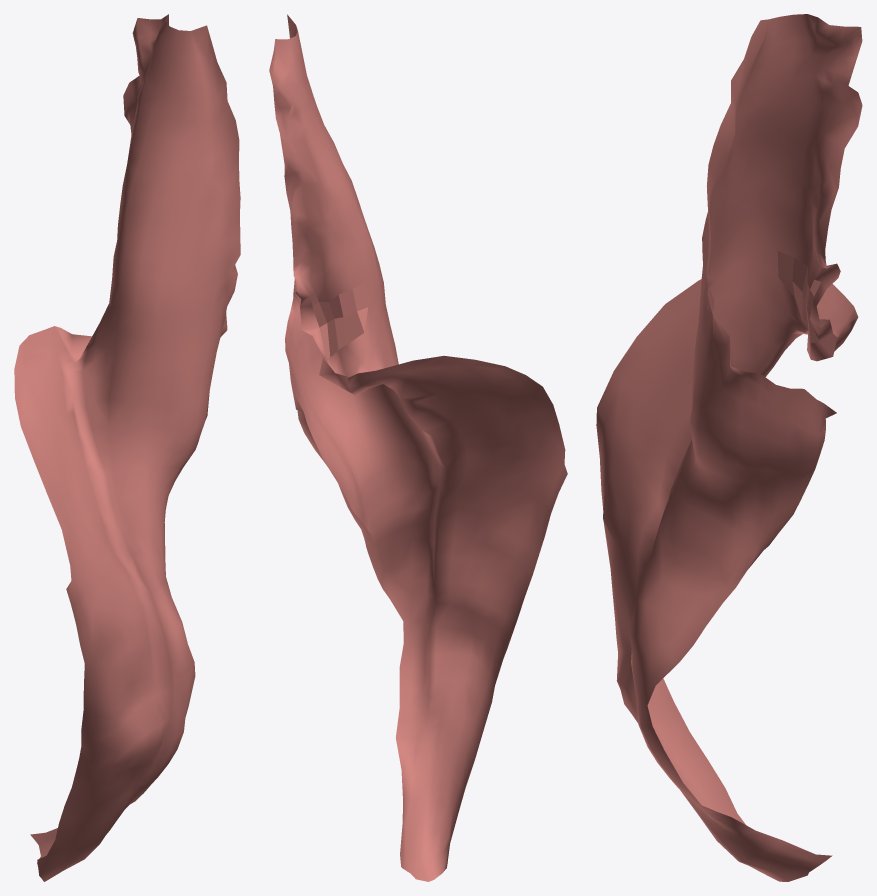
The picture shows the model from 3 angles, left to right: view 1: azimuth 30°, elevation 25°; view 2: azimuth 150°, elevation 25°; view 3: azimuth 270°, elevation 25°; orthographic projection. The views are drawn at different scales.
Parts seen in each view (by area): view 1: ZA_414b4649fc9b062c; view 2: ZA_414b4649fc9b062c; view 3: ZA_414b4649fc9b062c.
Boxes of the visible parts, <box> form: ZA_414b4649fc9b062c: <box>14,14,240,881</box>; ZA_414b4649fc9b062c: <box>269,14,567,881</box>; ZA_414b4649fc9b062c: <box>596,14,862,881</box>.
Size of the model in its own units: 0.0971 by 0.337 by 0.0857.
